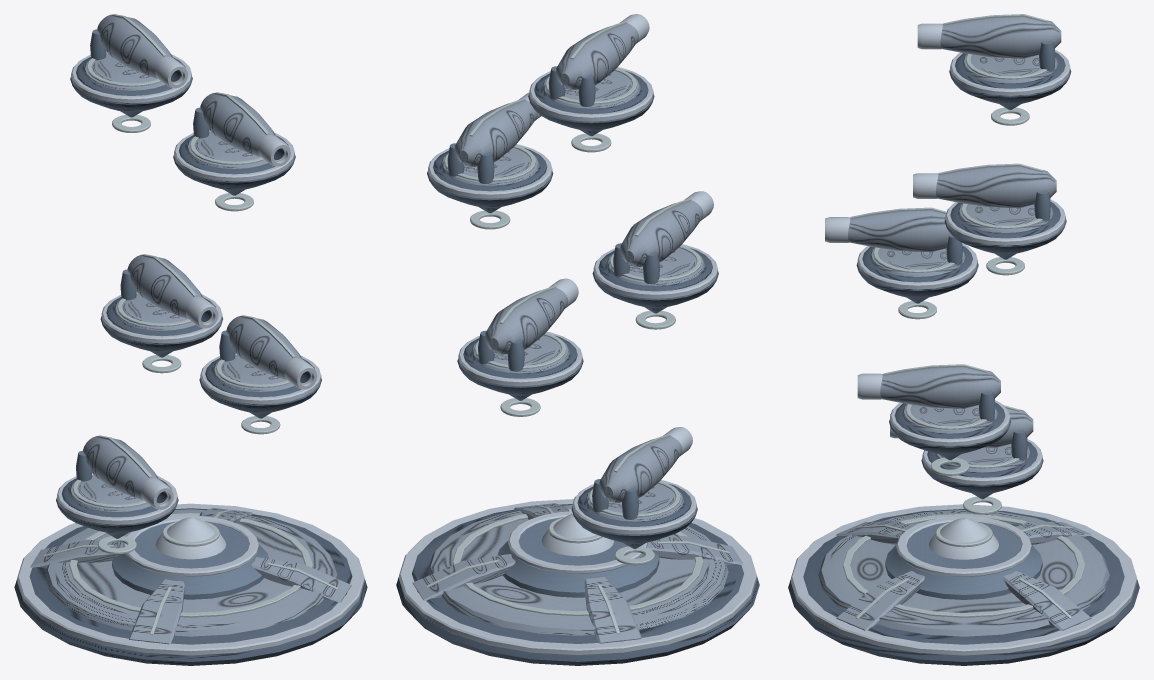
File: GGA2401_source.obj
3 views of the same model, side by side, from view 1: azimuth 30°, elevation 25°; view 2: azimuth 150°, elevation 25°; view 3: azimuth 270°, elevation 25° (orthographic). The views are drawn at different scales.
Visible parts, largest first — view 1: GGA2401, Island_02, Island_03, Island_01, Island_05, Island_04, Turret_Barrel, Barrel_04, Barrel_01, Barrel_02, Barrel_05; view 2: GGA2401, Island_05, Island_01, Island_04, Island_03, Island_02, Barrel_02, Barrel_05, Barrel_01, Turret_Barrel, Barrel_04; view 3: GGA2401, Island_02, Island_05, Island_04, Island_03, Barrel_05, Barrel_02, Barrel_04, Island_01, Turret_Barrel, Barrel_01.
Boxes of the visible parts, x1,y1,x2,y2 form: GGA2401: [14, 503, 367, 665]; Island_02: [199, 330, 321, 434]; Island_03: [100, 269, 222, 373]; Island_01: [56, 450, 178, 554]; Island_05: [70, 29, 192, 132]; Island_04: [173, 107, 295, 211]; Turret_Barrel: [127, 254, 218, 328]; Barrel_04: [200, 92, 290, 166]; Barrel_01: [83, 435, 173, 509]; Barrel_02: [226, 315, 317, 389]; Barrel_05: [97, 14, 187, 88]; GGA2401: [396, 499, 759, 665]; Island_05: [528, 66, 654, 152]; Island_01: [571, 479, 697, 565]; Island_04: [427, 143, 553, 229]; Island_03: [592, 243, 718, 329]; Island_02: [457, 330, 583, 416]; Barrel_02: [485, 278, 578, 354]; Barrel_05: [556, 14, 649, 89]; Barrel_01: [599, 427, 692, 502]; Turret_Barrel: [620, 191, 713, 267]; Barrel_04: [454, 92, 541, 167]; GGA2401: [788, 504, 1139, 665]; Island_02: [889, 391, 1010, 475]; Island_05: [949, 41, 1071, 125]; Island_04: [944, 190, 1066, 275]; Island_03: [856, 235, 978, 319]; Barrel_05: [917, 14, 1061, 58]; Barrel_02: [857, 364, 1000, 408]; Barrel_04: [913, 163, 1056, 208]; Island_01: [921, 430, 1043, 514]; Turret_Barrel: [825, 207, 951, 252]; Barrel_01: [890, 405, 1033, 447].
Bounding box in the file's own units: 38 × 67.4 × 38.
1 material, 1 textured.
